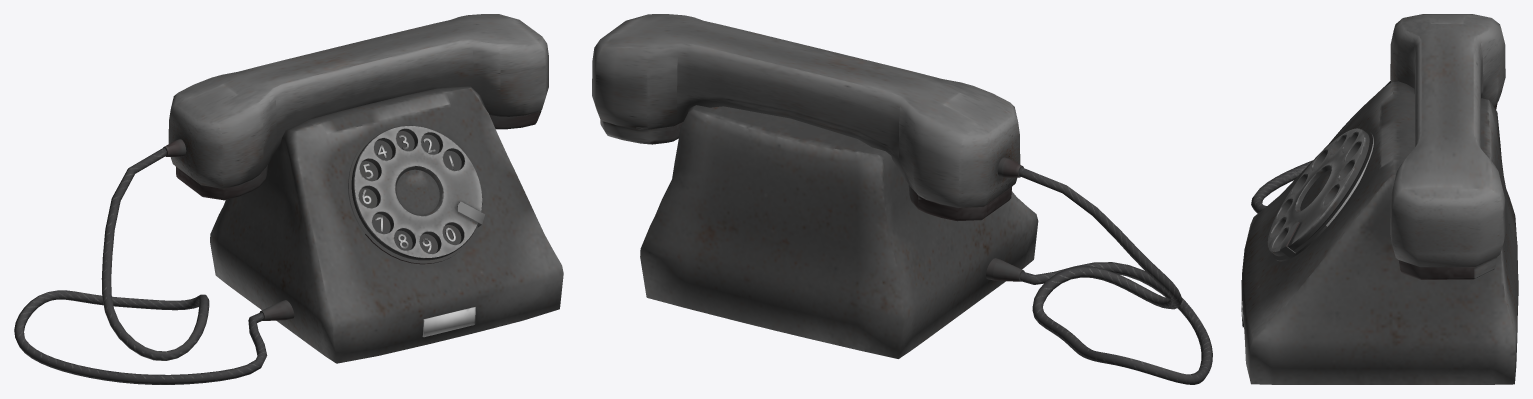
Rendered from rotary telephone.fbx.
The picture shows the model from 3 angles, left to right: view 1: azimuth 30°, elevation 25°; view 2: azimuth 150°, elevation 25°; view 3: azimuth 270°, elevation 25°; orthographic projection. The views are drawn at different scales.
Parts seen in each view (by area): view 1: Telefone.001; view 2: Telefone.001; view 3: Telefone.001.
Part boxes in pixels (x1,y1,x2,y2): Telefone.001: (14,14,563,384); Telefone.001: (592,14,1212,384); Telefone.001: (1241,14,1518,384).
Bounding box in the file's own units: 46.06 × 18.5 × 19.47.
